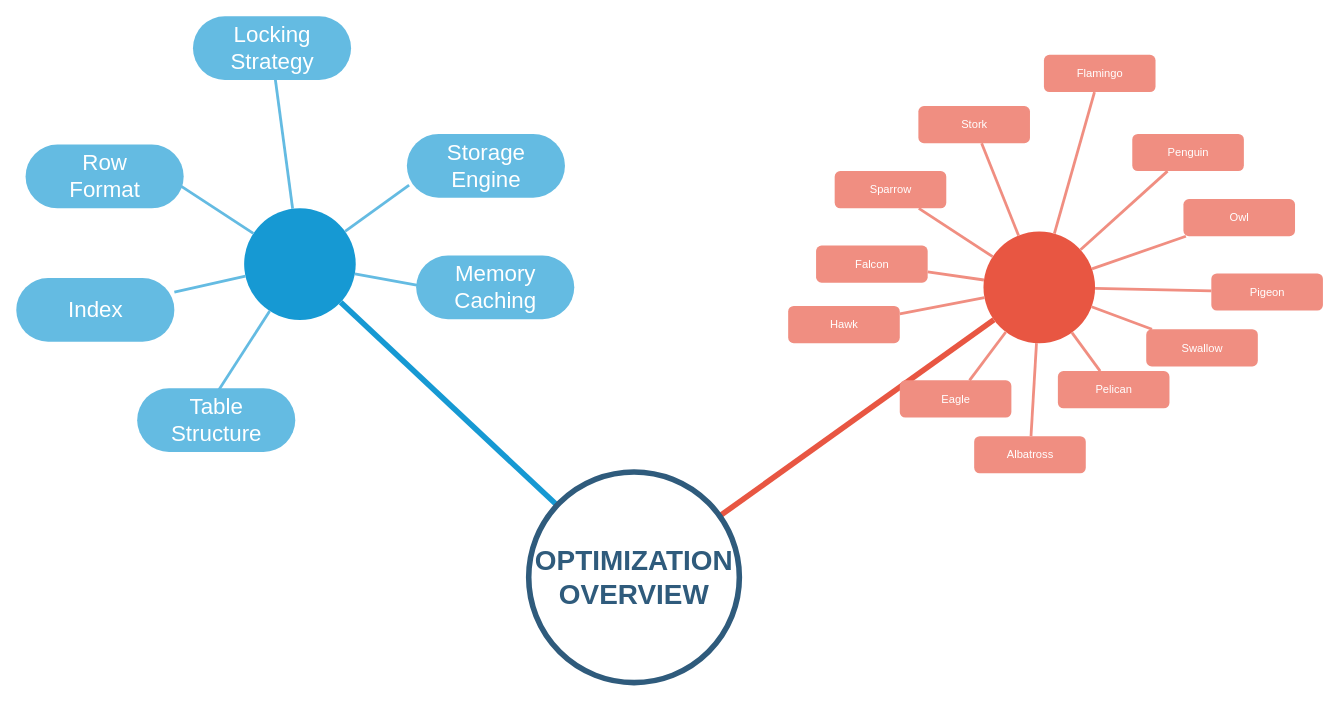
The diagram is 1338 pixels wide and 701 high, and some of its shapes have lost their labels. The box of each missing label's shape, as (x1, y1, x2, y2) in pixels:
Bird: (983, 231, 1095, 343)
Database Level: (244, 208, 355, 319)
